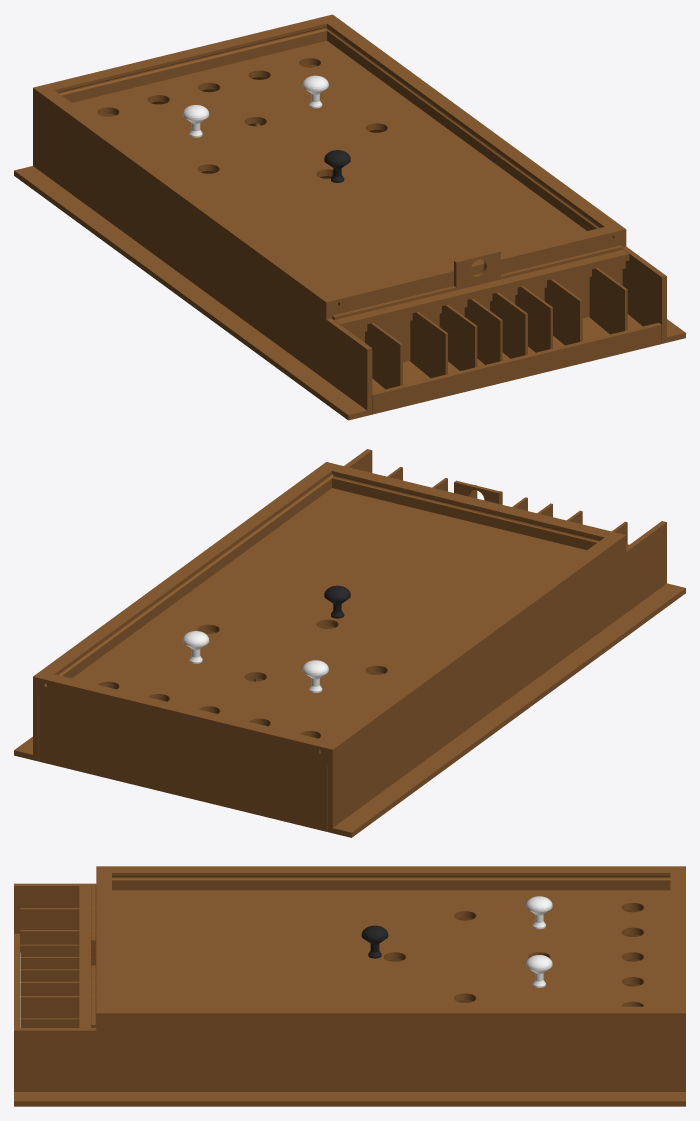
Rendered from table.glb.
3 views of the same model, one above another, from view 1: azimuth 30°, elevation 25°; view 2: azimuth 150°, elevation 25°; view 3: azimuth 270°, elevation 25° (orthographic).
Parts seen in each view (by area): view 1: playfield_r1_c1, side_wall_left_1, rail_side_left_1, rail_side_right_1, rail_far, tray_lip, rail_front, apron_beam, time_bar_gate, side_wall_right_1, lane_fin_8_1, lane_fin_2_1 (+7 smaller); view 2: playfield_r1_c1, side_wall_left_1, back_wall, rail_side_left_1, rail_side_right_1, rail_far, rail_front, side_wall_right_1; view 3: playfield_r1_c1, side_wall_right_1, rail_side_right_1, rail_side_left_1, rail_far, rail_front, side_wall_left_1, apron_beam, lane_fin_7_1, lane_fin_1_1, lane_fin_2_1, lane_fin_6_1 (+10 smaller).
Part boxes in pixels (left/top/right/bottom): playfield_r1_c1: left=72, top=40, right=586, bottom=293; side_wall_left_1: left=14, top=105, right=372, bottom=420; rail_side_left_1: left=33, top=84, right=339, bottom=319; rail_side_right_1: left=319, top=14, right=626, bottom=246; rail_far: left=47, top=18, right=326, bottom=102; tray_lip: left=372, top=322, right=661, bottom=414; rail_front: left=332, top=227, right=612, bottom=313; apron_beam: left=334, top=249, right=629, bottom=334; time_bar_gate: left=332, top=245, right=622, bottom=362; side_wall_right_1: left=622, top=246, right=685, bottom=343; lane_fin_8_1: left=369, top=130, right=627, bottom=334; lane_fin_2_1: left=201, top=171, right=447, bottom=378; playfield_r1_c1: left=72, top=488, right=586, bottom=740; side_wall_left_1: left=327, top=521, right=685, bottom=837; back_wall: left=38, top=695, right=327, bottom=831; rail_side_left_1: left=319, top=531, right=626, bottom=766; rail_side_right_1: left=33, top=462, right=339, bottom=696; rail_far: left=46, top=674, right=326, bottom=763; rail_front: left=332, top=465, right=611, bottom=549; side_wall_right_1: left=14, top=449, right=372, bottom=761; playfield_r1_c1: left=112, top=890, right=670, bottom=1006; side_wall_right_1: left=14, top=1028, right=685, bottom=1106; rail_side_right_1: left=96, top=1006, right=685, bottom=1030; rail_side_left_1: left=96, top=866, right=685, bottom=890; rail_far: left=670, top=873, right=685, bottom=1006; rail_front: left=96, top=873, right=111, bottom=1006; side_wall_left_1: left=14, top=883, right=640, bottom=952; apron_beam: left=79, top=886, right=90, bottom=1027; lane_fin_7_1: left=20, top=996, right=472, bottom=1018; lane_fin_1_1: left=20, top=908, right=472, bottom=929; lane_fin_2_1: left=20, top=930, right=640, bottom=944; lane_fin_6_1: left=20, top=981, right=640, bottom=995.
Size of the model in its own units: 1 by 0.2726 by 1.72.
